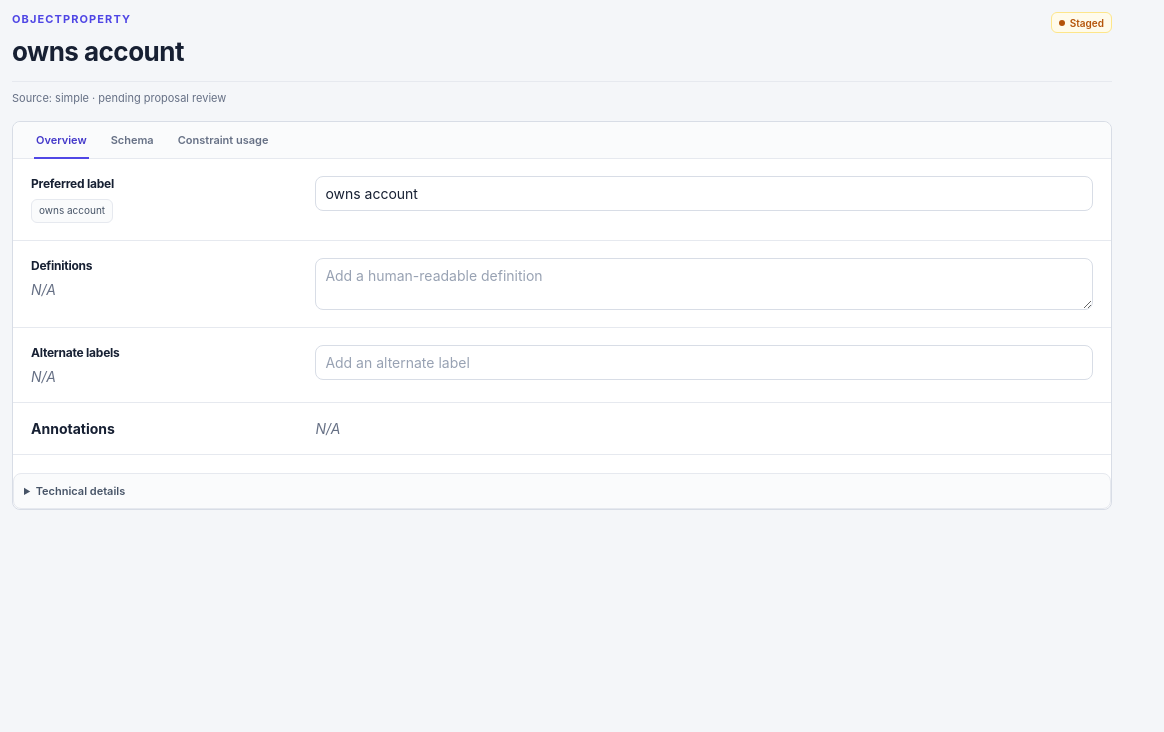
Test case: entity details editing › removes a staged property domain when the selection is cleared
This screenshot has width=1164, height=732.
Click the tab "Schema" at (132,140), box [100, 122, 165, 158]
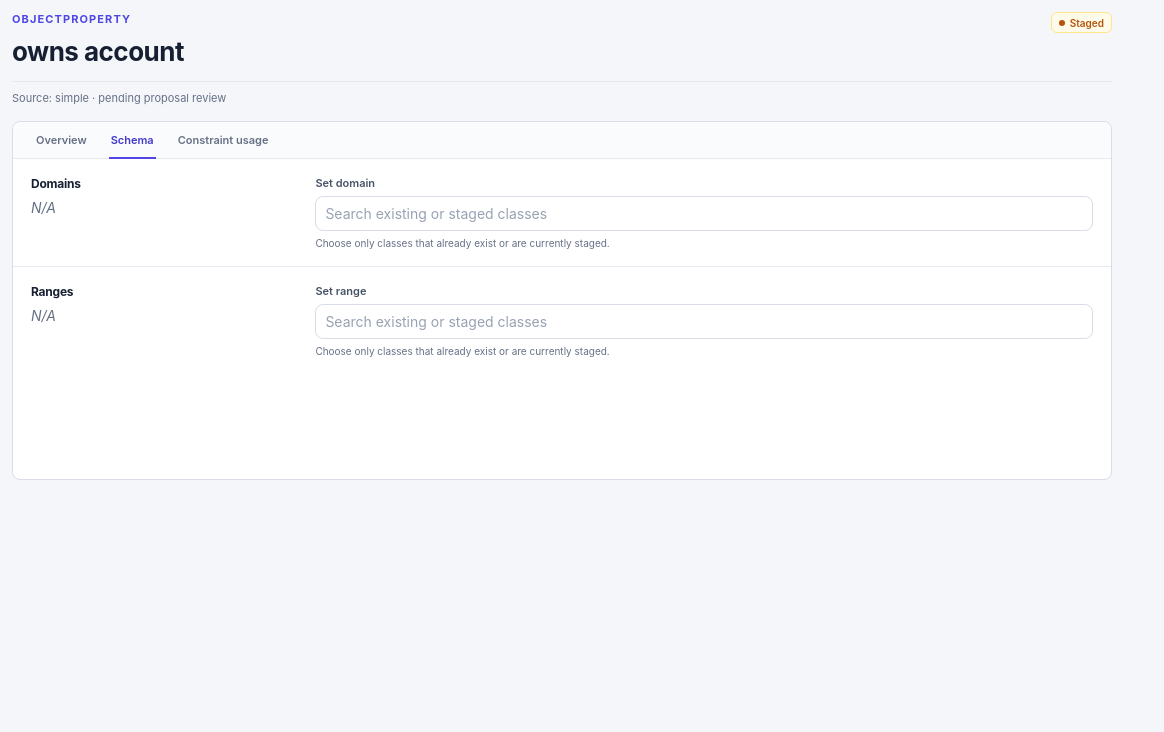
Type "Account" into the dropdown labelled "Set domain" at (704,214), box [315, 196, 1093, 231]
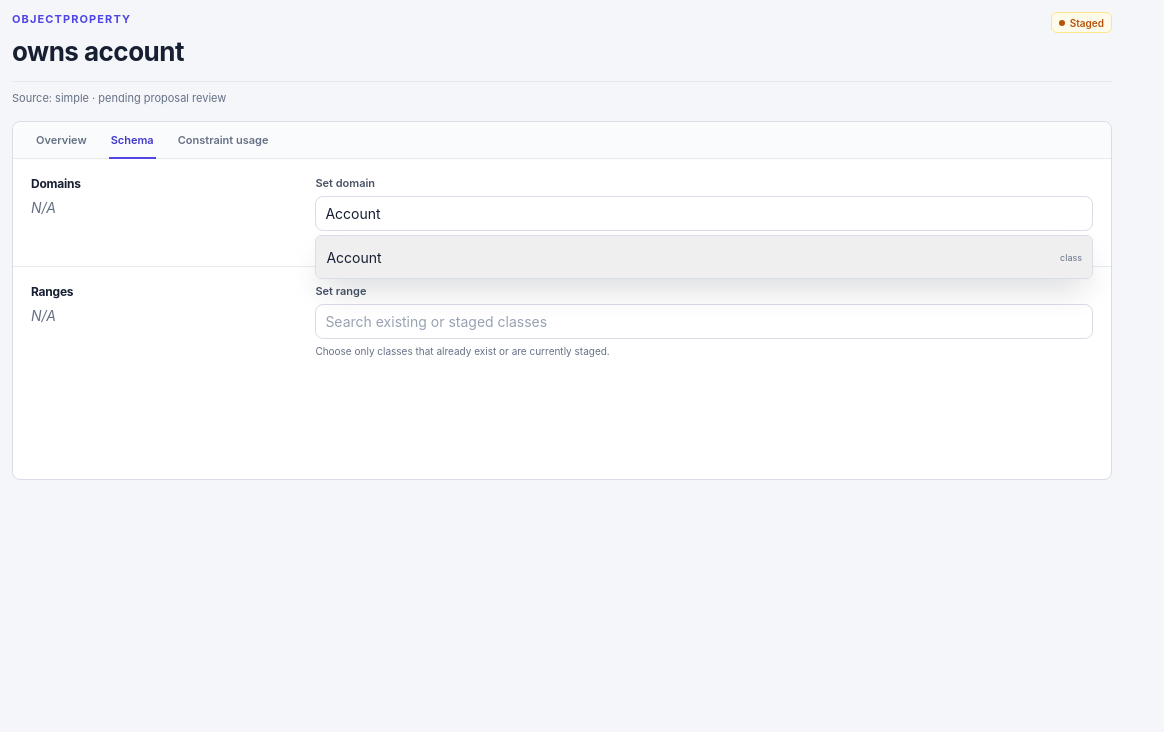
Click the option "Account class" at (354,257), box [316, 236, 1092, 278]
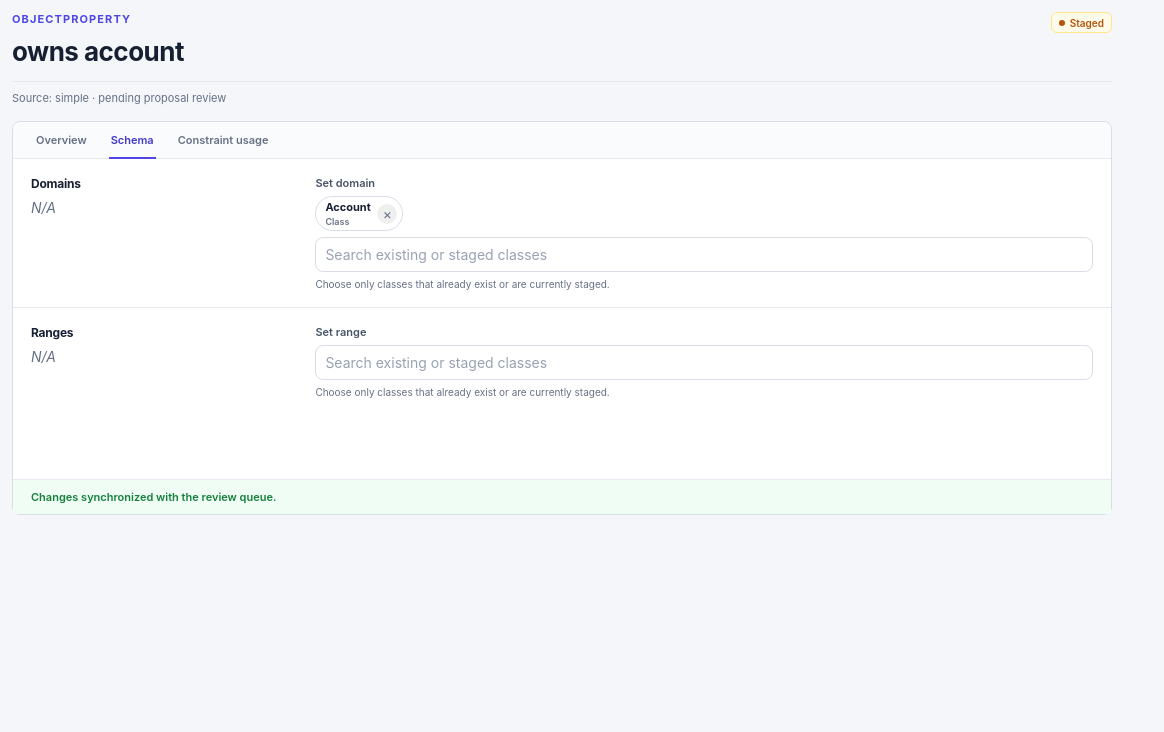
Click the button named "Remove Account" at (387,214), box [377, 204, 397, 224]
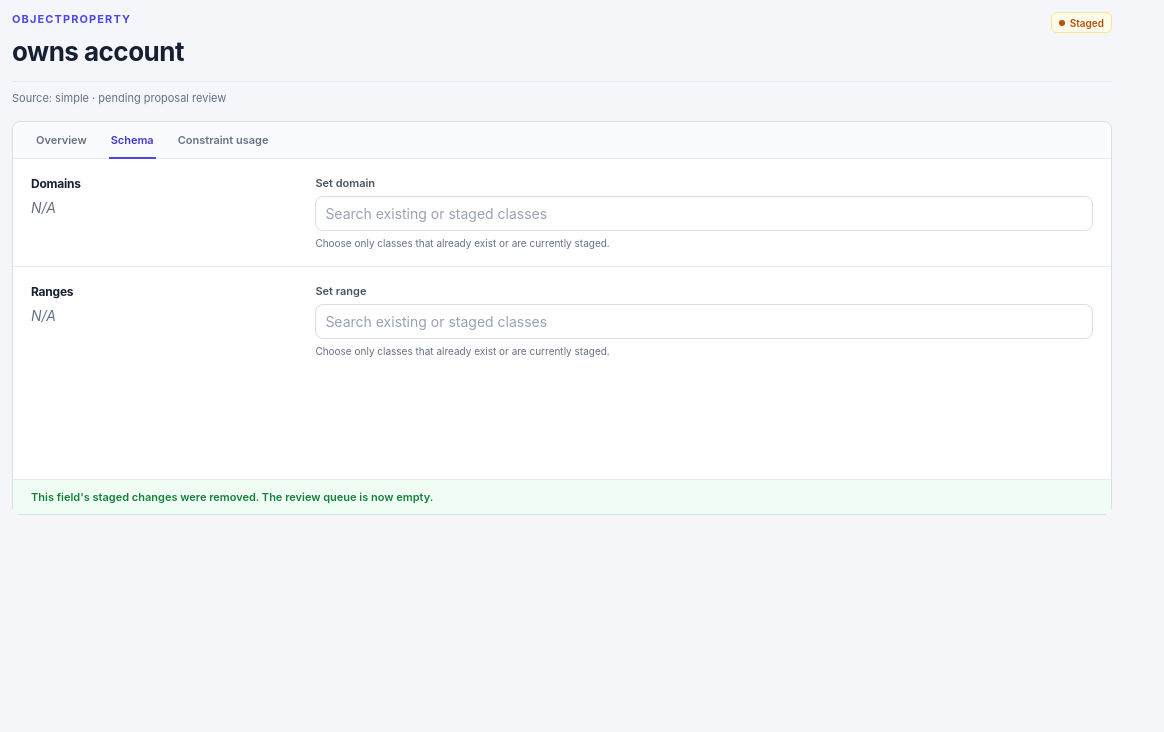
Check: the text "This field's staged changes were removed. The review queue is now empty." is shown, box [13, 479, 1111, 514]
